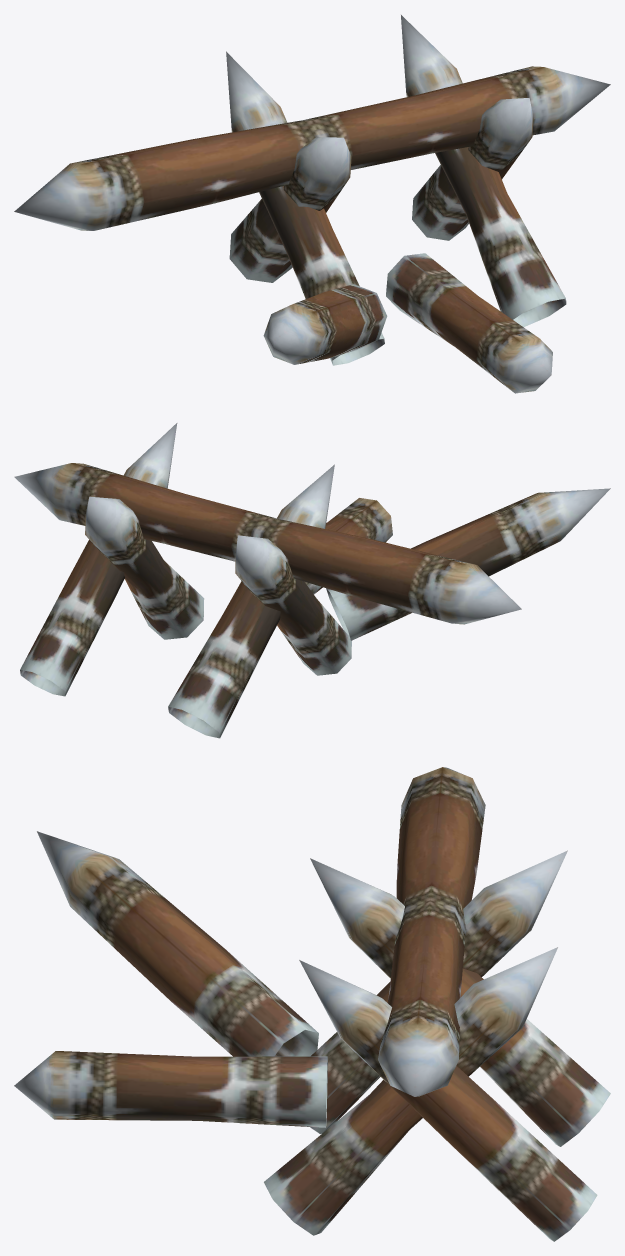
Rendered from h5_xuezhalan_b.FBX.
The picture shows the model from 3 angles, top to bottom: view 1: azimuth 30°, elevation 25°; view 2: azimuth 150°, elevation 25°; view 3: azimuth 270°, elevation 25°; orthographic projection. The views are drawn at different scales.
Visible parts, largest first — view 1: h5_xuezhalan_b; view 2: h5_xuezhalan_b; view 3: h5_xuezhalan_b.
Part boxes in pixels (x1=…): h5_xuezhalan_b: x1=14, y1=15, x2=610, y2=393; h5_xuezhalan_b: x1=14, y1=423, x2=610, y2=738; h5_xuezhalan_b: x1=14, y1=767, x2=610, y2=1241.
Bounding box in the file's own units: 2.45 × 0.9747 × 1.91.
